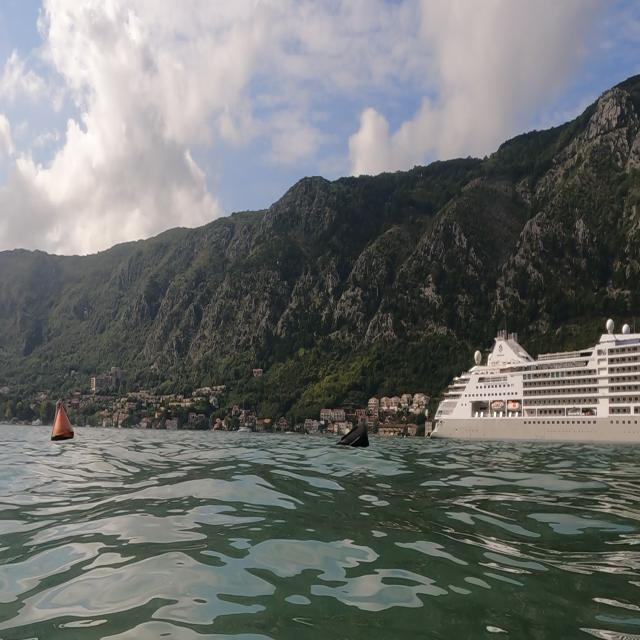boat: (426, 314, 638, 446)
buoy: (322, 407, 380, 460), (48, 388, 78, 450)
